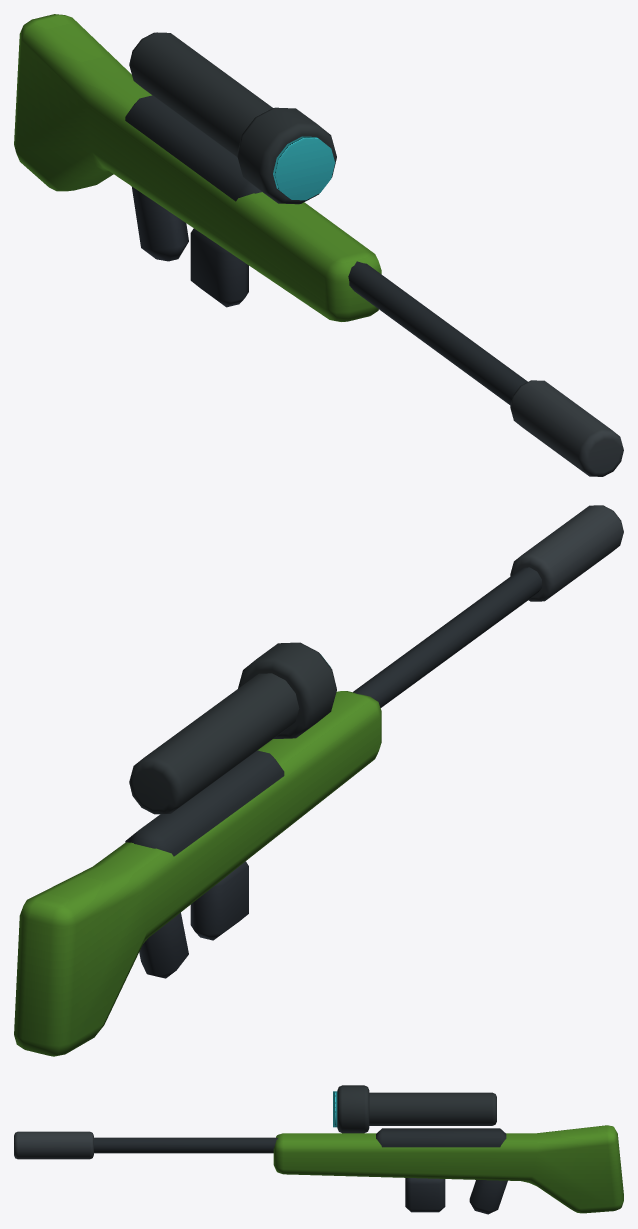
The model's file is weapon_sniper.glb.
3 views of the same model, one above another, from view 1: azimuth 30°, elevation 25°; view 2: azimuth 150°, elevation 25°; view 3: azimuth 270°, elevation 25° (orthographic). The views are drawn at different scales.
Parts seen in each view (by area): view 1: Chassis stock, Long scope, Long barrel.002, Suppressor, Receiver.005, Scope bell, Box magazine, Scope lens, Pistol grip.006; view 2: Chassis stock, Long scope, Long barrel.002, Receiver.005, Suppressor, Scope bell, Box magazine, Pistol grip.006; view 3: Chassis stock, Long scope, Long barrel.002, Receiver.005, Suppressor, Scope bell, Box magazine, Pistol grip.006.
Part boxes in pixels (x1,y1,x2,y2): Chassis stock: (14,14,381,321); Long scope: (129,32,272,157); Long barrel.002: (348,261,527,405); Suppressor: (510,380,623,476); Receiver.005: (125,95,261,201); Scope bell: (237,107,336,204); Box magazine: (190,228,248,307); Scope lens: (273,136,334,200); Pistol grip.006: (131,186,188,261); Chassis stock: (14,691,381,1056); Long scope: (129,673,299,814); Long barrel.002: (353,567,541,707); Receiver.005: (125,750,284,856); Suppressor: (510,505,623,601); Scope bell: (238,642,336,738); Box magazine: (190,861,248,940); Pistol grip.006: (139,912,188,978); Chassis stock: (273,1125,623,1213); Long scope: (369,1092,496,1125); Long barrel.002: (94,1137,277,1153); Receiver.005: (376,1128,506,1147); Suppressor: (14,1131,93,1159); Scope bell: (337,1085,369,1133); Box magazine: (405,1178,445,1212); Pistol grip.006: (469,1180,507,1214).
Size of the model in its own units: 0.12 by 0.3473 by 1.53.
Materials: 4 (4 with a texture image).
